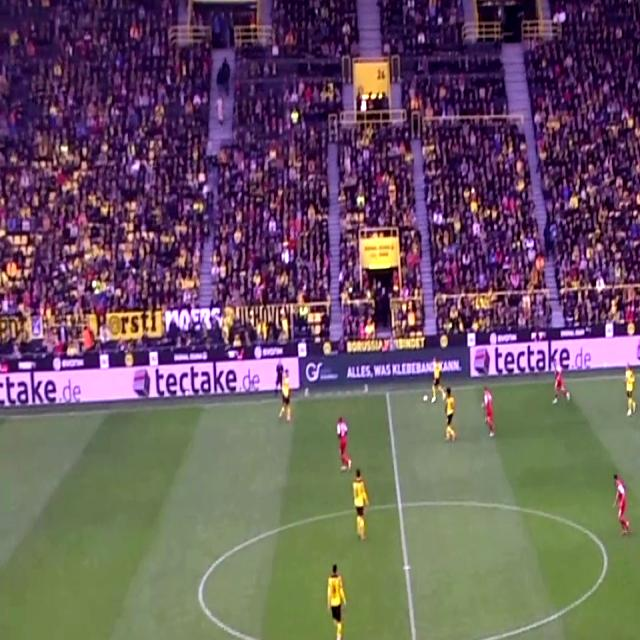ball: (422, 390, 432, 405)
soccer-player: (322, 553, 351, 640), (356, 455, 378, 542), (612, 466, 634, 544), (336, 410, 355, 478), (278, 358, 296, 424), (482, 381, 500, 445), (550, 350, 566, 414), (624, 358, 639, 423), (441, 388, 457, 446), (431, 351, 446, 407), (638, 431, 640, 505)
